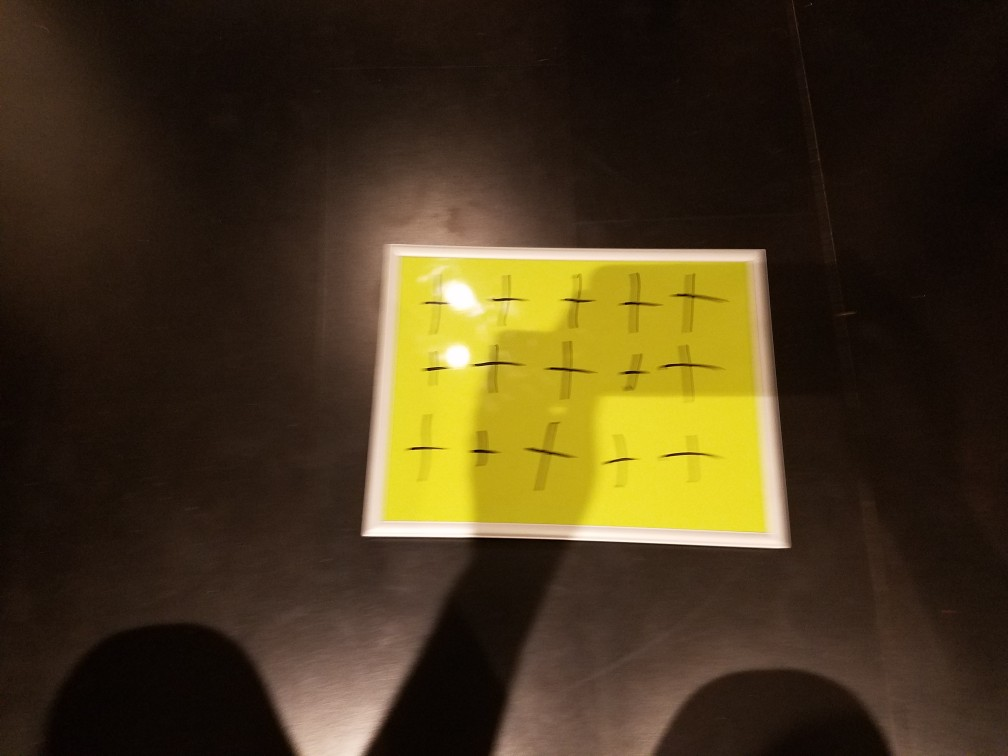+: (524, 416, 579, 505), (658, 427, 727, 497), (669, 268, 730, 346), (665, 341, 728, 411), (403, 412, 450, 497), (613, 269, 668, 339), (542, 341, 592, 411), (600, 428, 648, 495), (469, 346, 523, 403), (417, 270, 458, 345), (481, 271, 528, 335), (557, 270, 600, 334), (468, 421, 512, 477), (613, 346, 654, 405), (420, 347, 448, 393)
